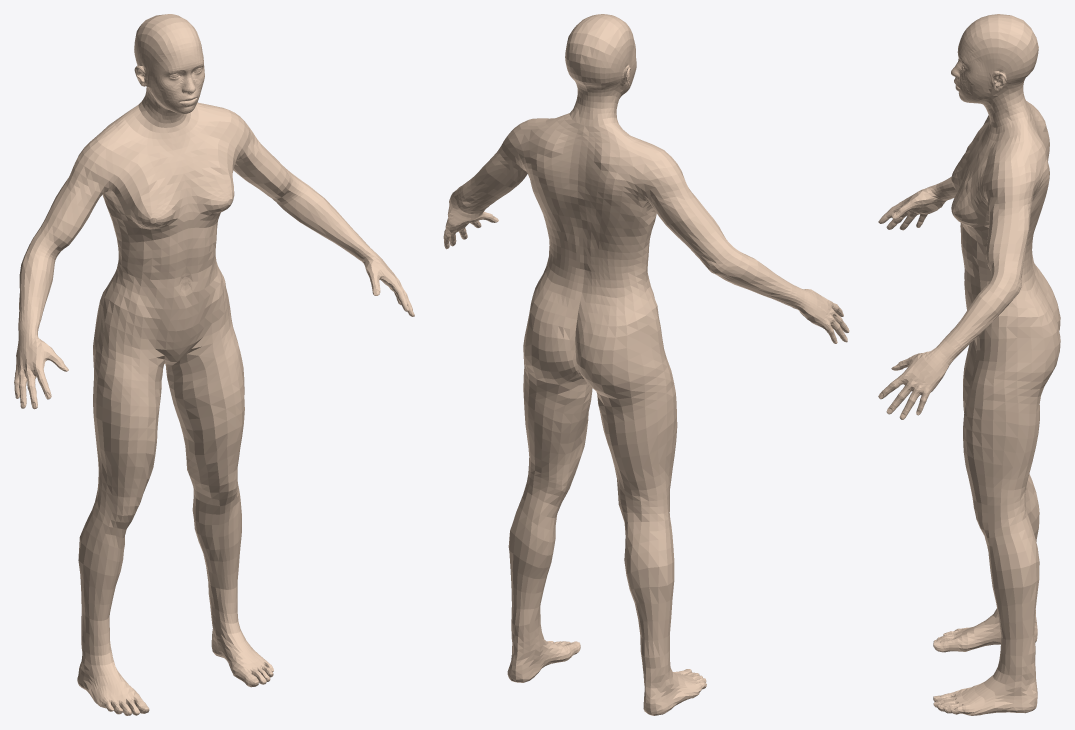
File: female-adult-average-high.glb
3 views of the same model, side by side, from view 1: azimuth 30°, elevation 25°; view 2: azimuth 150°, elevation 25°; view 3: azimuth 270°, elevation 25° (orthographic).
Visible parts, largest first — view 1: world; view 2: world; view 3: world.
Part boxes in pixels (left/top/right/bottom): world: left=14, top=14, right=414, bottom=715; world: left=443, top=14, right=849, bottom=715; world: left=878, top=14, right=1060, bottom=715.
Bounding box in the file's own units: 1.12 × 1.81 × 0.4525.
